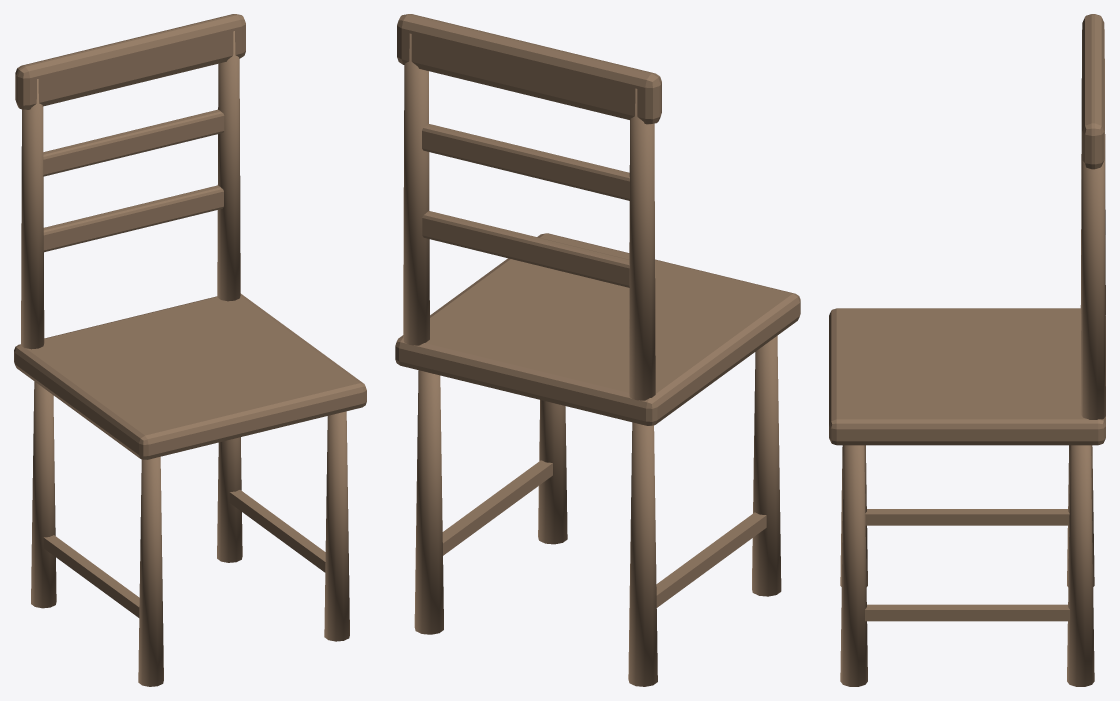
The model's file is chair.glb.
3 views of the same model, side by side, from view 1: azimuth 30°, elevation 25°; view 2: azimuth 150°, elevation 25°; view 3: azimuth 270°, elevation 25° (orthographic). The views are drawn at different scales.
Parts seen in each view (by area): view 1: seat, top, post, post.001, leg.001, leg.003, leg, slat.001, slat, leg.002, stretcher.001, stretcher; view 2: seat, top, post, post.001, leg, leg.002, leg.001, slat.001, slat, leg.003, stretcher, stretcher.001; view 3: seat, post.001, leg.002, leg.003, stretcher.001, top, stretcher, post, leg, leg.001.
Part boxes in pixels (bbox=[...]): seat: bbox=[14, 293, 366, 459]; top: bbox=[15, 14, 245, 109]; post: bbox=[21, 79, 44, 349]; post.001: bbox=[217, 31, 240, 301]; leg.001: bbox=[138, 456, 163, 686]; leg.003: bbox=[324, 411, 349, 641]; leg: bbox=[31, 381, 56, 608]; slat.001: bbox=[43, 109, 224, 176]; slat: bbox=[43, 185, 223, 252]; leg.002: bbox=[217, 437, 242, 562]; stretcher.001: bbox=[229, 490, 325, 572]; stretcher: bbox=[43, 535, 139, 617]; seat: bbox=[395, 233, 800, 425]; top: bbox=[397, 14, 661, 124]; post: bbox=[629, 88, 655, 400]; post.001: bbox=[403, 33, 429, 345]; leg: bbox=[628, 422, 657, 686]; leg.002: bbox=[414, 370, 443, 634]; leg.001: bbox=[752, 336, 781, 596]; slat.001: bbox=[422, 124, 629, 200]; slat: bbox=[422, 211, 629, 287]; leg.003: bbox=[538, 400, 567, 544]; stretcher: bbox=[656, 512, 766, 607]; stretcher.001: bbox=[442, 460, 552, 555]; seat: bbox=[829, 308, 1105, 445]; post.001: bbox=[1080, 131, 1105, 419]; leg.002: bbox=[1067, 445, 1094, 686]; leg.003: bbox=[840, 445, 867, 686]; stretcher.001: bbox=[865, 604, 1069, 621]; top: bbox=[1082, 14, 1104, 169]; stretcher: bbox=[865, 509, 1069, 525]; post: bbox=[1080, 29, 1105, 314]; leg: bbox=[1067, 445, 1094, 586]; leg.001: bbox=[840, 445, 867, 586].
Size of the model in its own units: 0.44 by 0.99 by 0.44.
